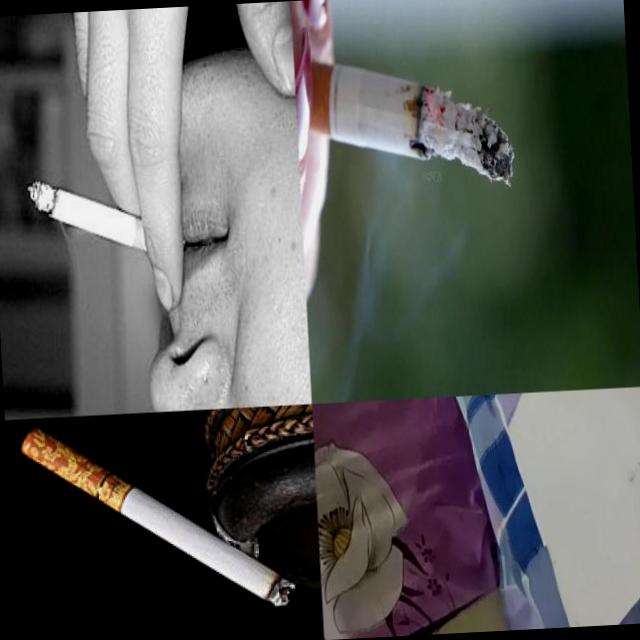cigarette: (20, 414, 298, 620), (294, 36, 518, 200), (27, 172, 184, 267)
